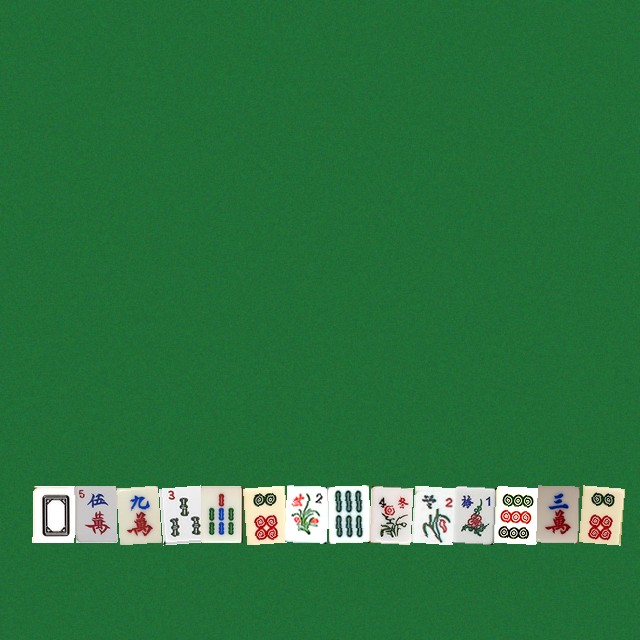tile: (32, 485, 74, 542), (74, 485, 116, 542), (116, 485, 158, 542), (158, 485, 200, 542), (200, 485, 242, 542), (242, 485, 284, 542), (284, 485, 326, 542), (326, 485, 368, 542), (368, 485, 410, 542), (410, 485, 452, 542), (452, 485, 494, 542), (494, 485, 536, 542), (536, 485, 578, 542), (578, 485, 620, 542)
